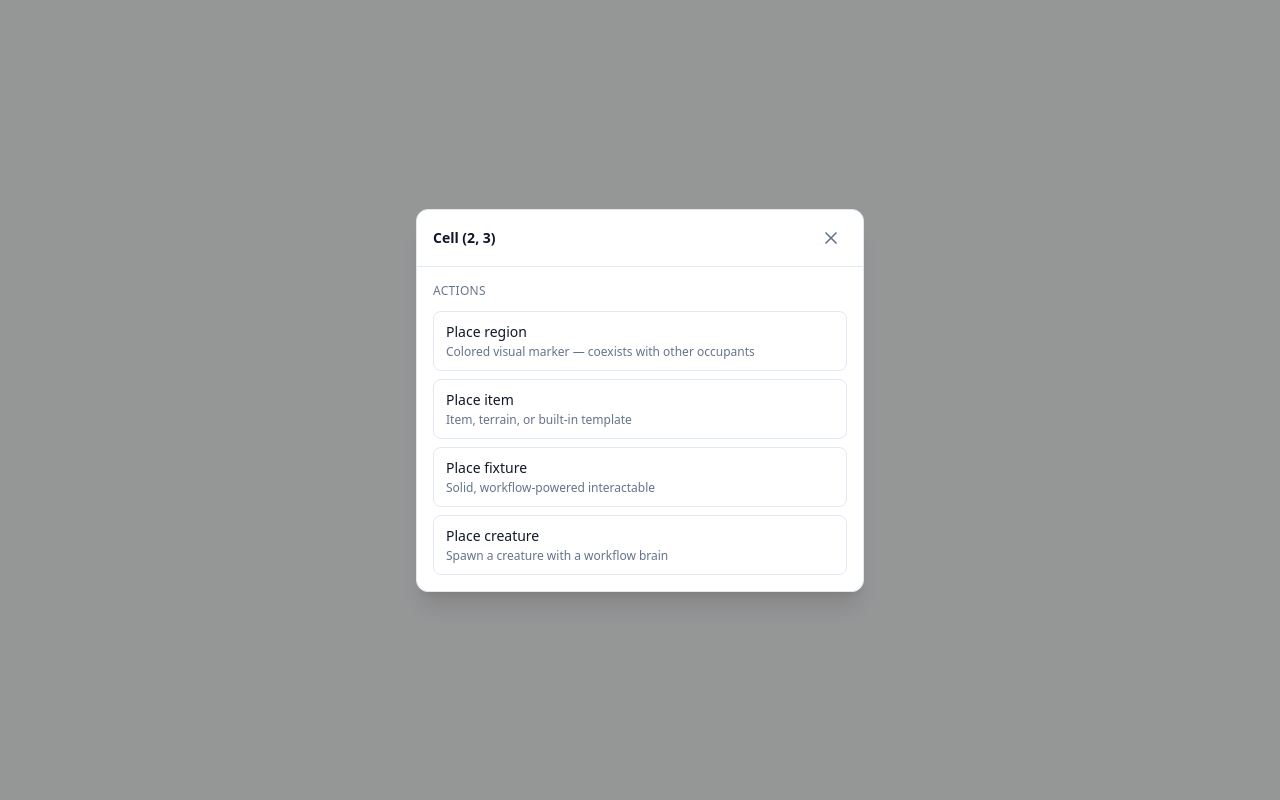
it: SandboxCellActionModal › place item source menu › shows Item, Terrain, and Built-ins in order
This screenshot has width=1280, height=800.
Click the button "Place item Item, terrain, or built-in template": (480, 399) [433,378,847,438]
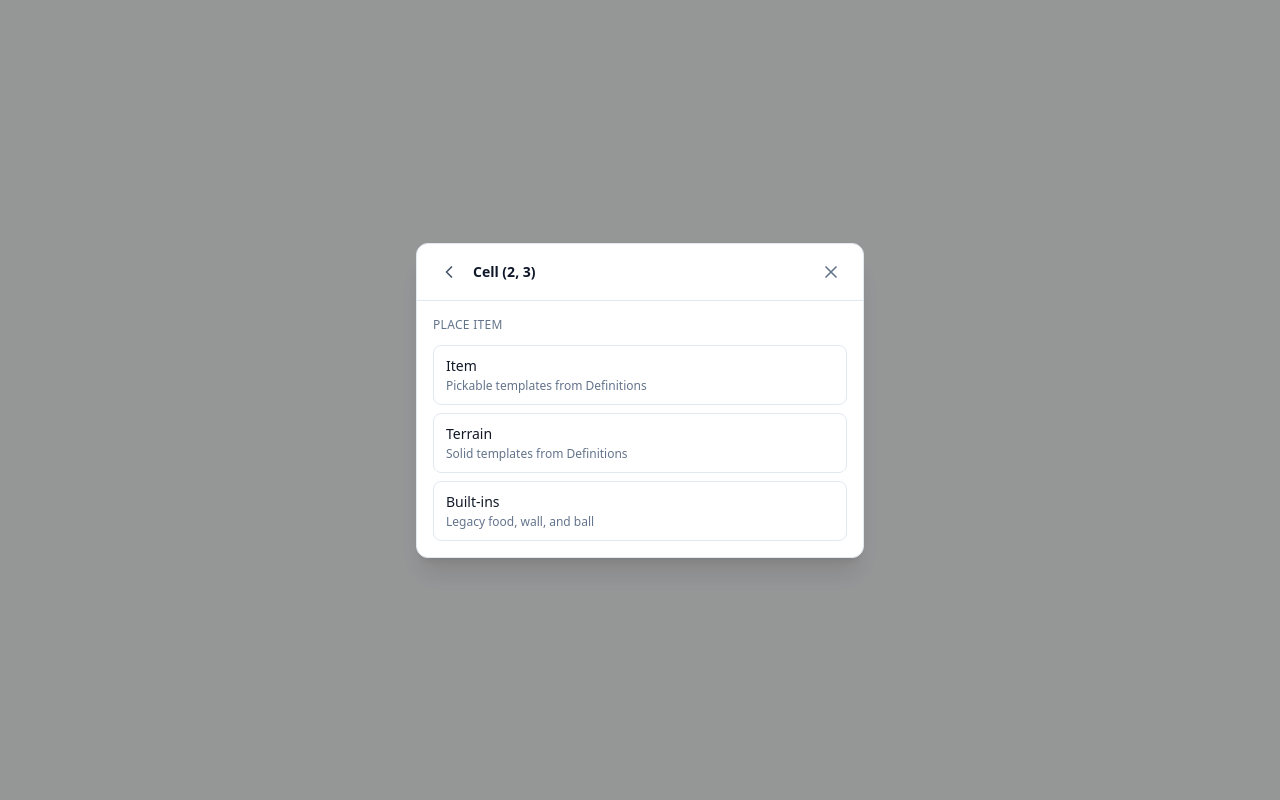
expect the text "Place item" is shown: met, box [433,316,503,332]
